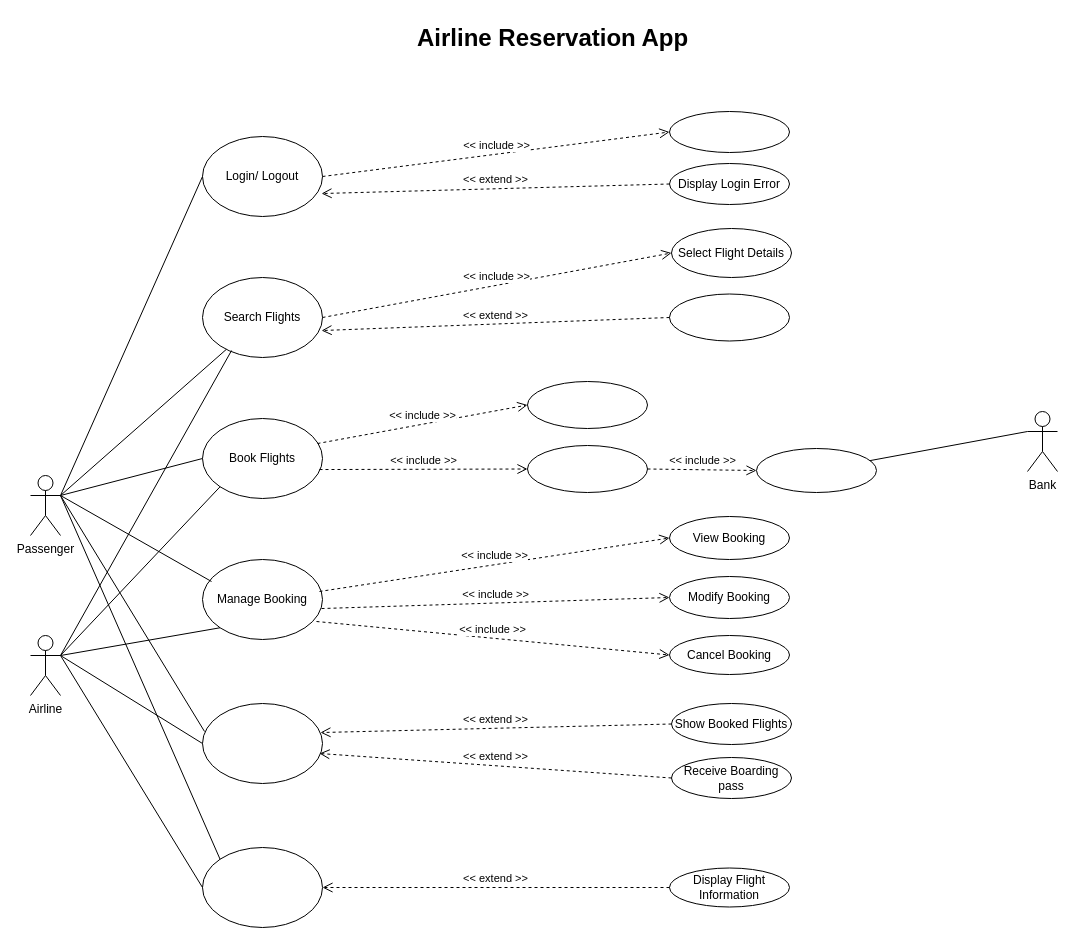
Some shapes in this 1075 by 945 pixel diagram are drawn without their labels. Here are the shapes that lost their labels. From the top down, the box of each, then its label:
(668, 110, 790, 152): Verify Password
(668, 293, 790, 341): Display Available Flights
(526, 380, 648, 428): Select Desired Flight
(526, 444, 648, 492): Add Passenger Information
(756, 448, 876, 492): Make/ Validate Payment
(202, 702, 322, 784): Check-in Online
(202, 846, 322, 928): View Boarding Pass
